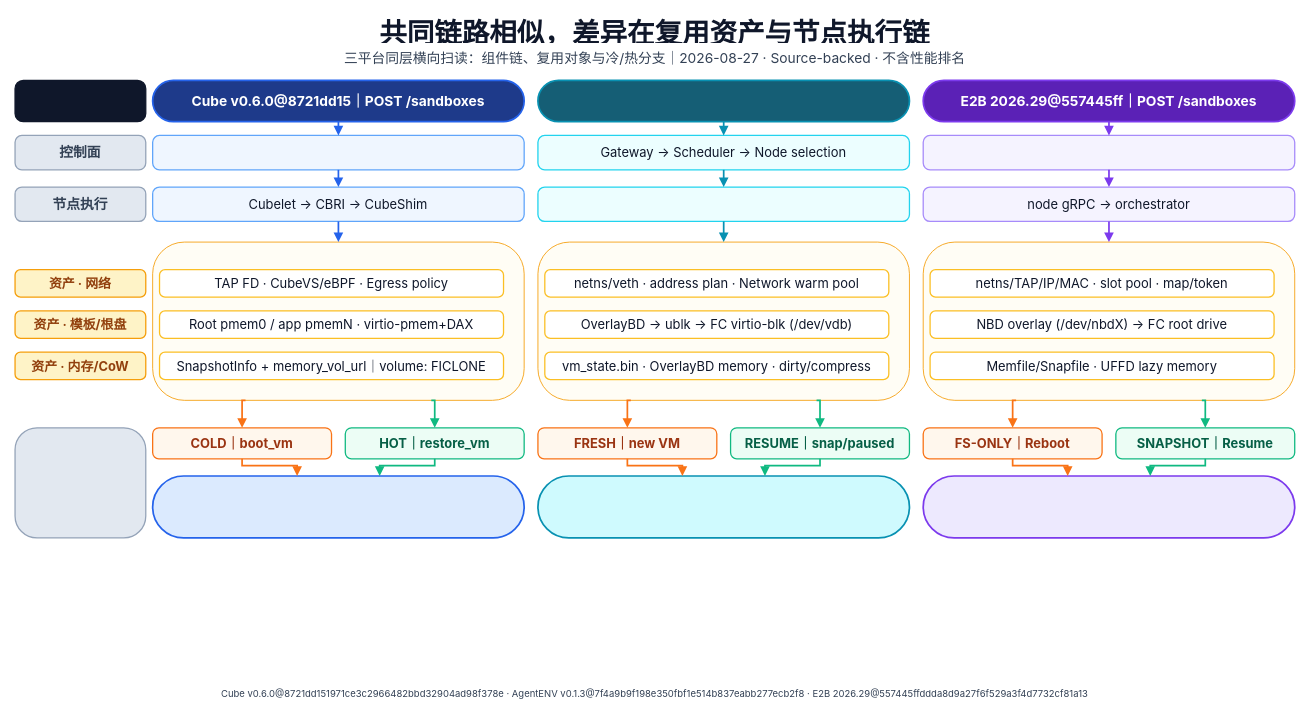
Some shapes in this 1311 by 716 pixel diagram are drawn without their labels. Here are the shapes that lost their labels. From the top down, the box of each, then its label:
(14, 79, 146, 122): API 入口
(537, 79, 910, 122): AgentENV v0.1.3@7f4a9b9f｜POST /sandboxes
(152, 134, 524, 170): CubeAPI → CubeMaster → scheduler.Select
(922, 134, 1295, 170): API orchestrator → BestOfK placement
(537, 186, 910, 222): Node Orchestrator → LaunchPlan
(14, 427, 146, 538): 启动 / 恢复
(151, 475, 525, 538): CH/KVM → agent/envd → CubeAPI metadata
(537, 475, 910, 538): FC/KVM → envd → assignment/Gateway
(922, 475, 1295, 538): FC/KVM → MMDS/envd → Redis catalog/proxy
